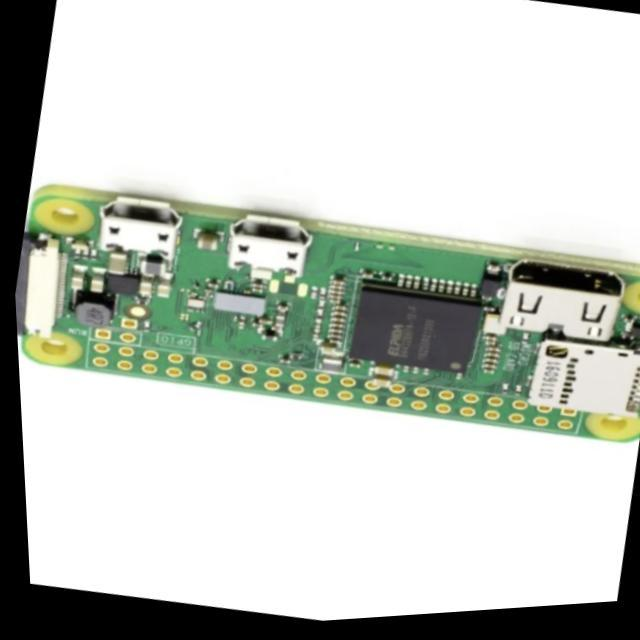Raspberry-Pi-Zero-W: (17, 186, 640, 444)
